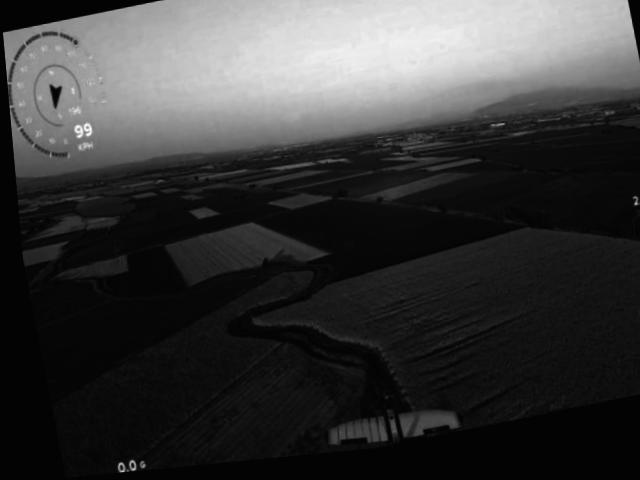hedef: (305, 388, 460, 459)
